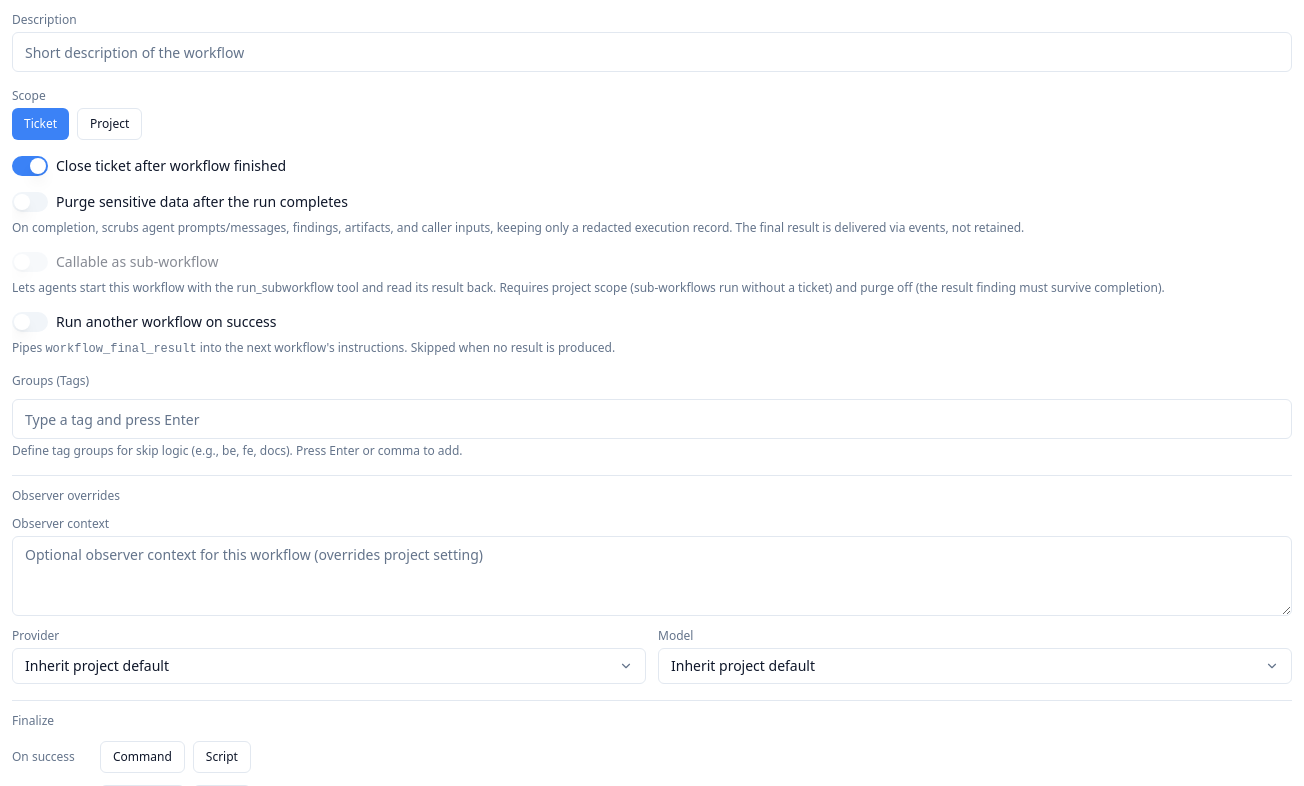
Test: WorkflowDefForm › next_workflow_on_success › excludes self from dropdown options in edit mode
This screenshot has width=1304, height=786.
What coordinates should you click on to do the following:
click the switch named "run another workflow on success" next to "Run another workflow on success"
I would click on:
 (30, 322)
Its box is [12,312,48,332].
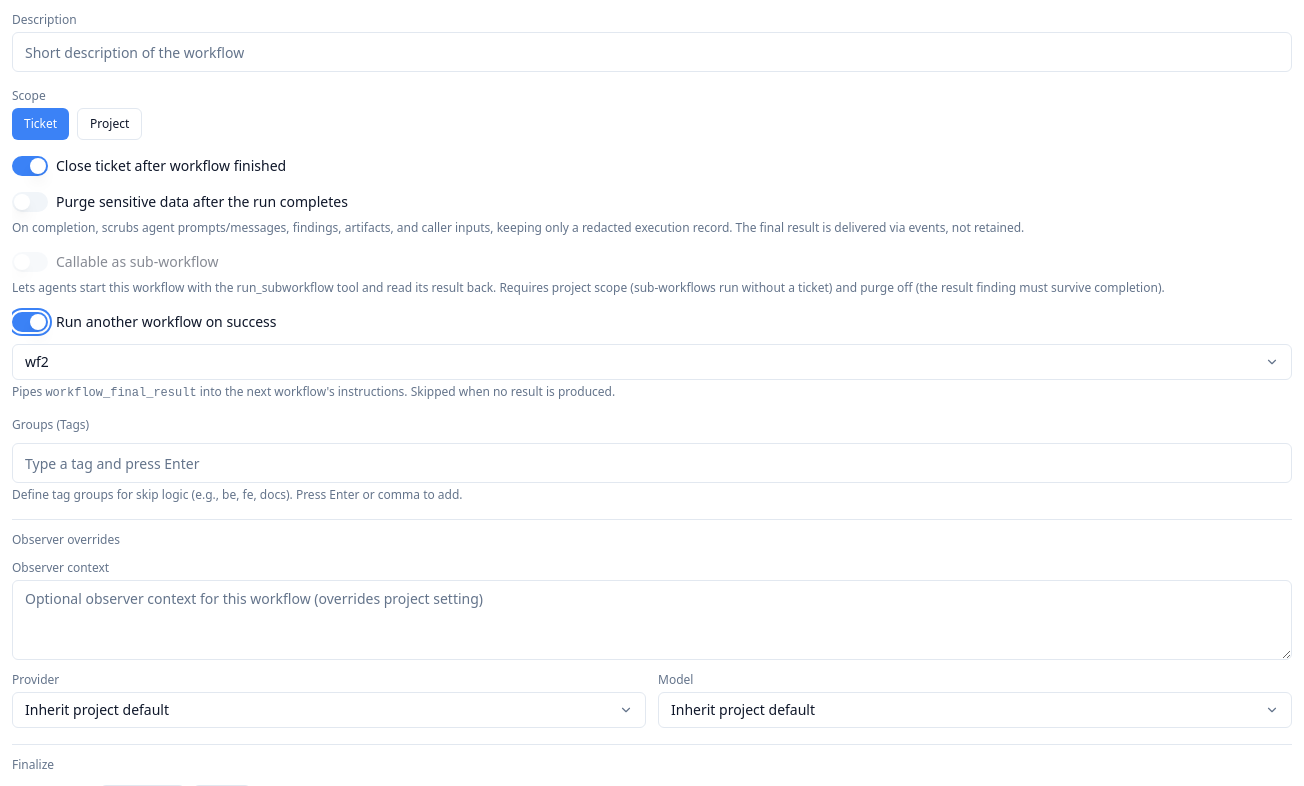
Check: the button "wf2" is shown, box [12,344,1292,380]
